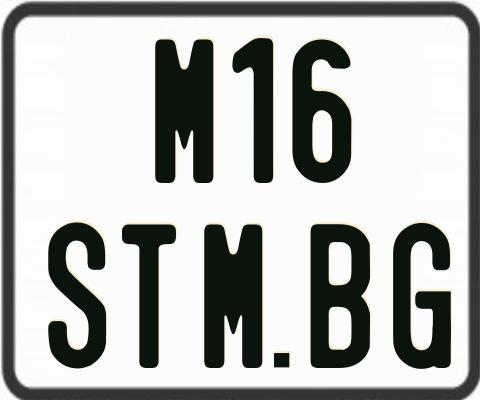1: (229, 35, 274, 184)
6: (289, 39, 351, 184)
B: (311, 224, 376, 371)
G: (392, 221, 451, 373)
M: (202, 224, 262, 371), (152, 39, 212, 185)
S: (48, 222, 112, 374)
T: (120, 224, 175, 368)
